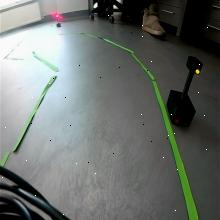green: (186, 55, 204, 75)
